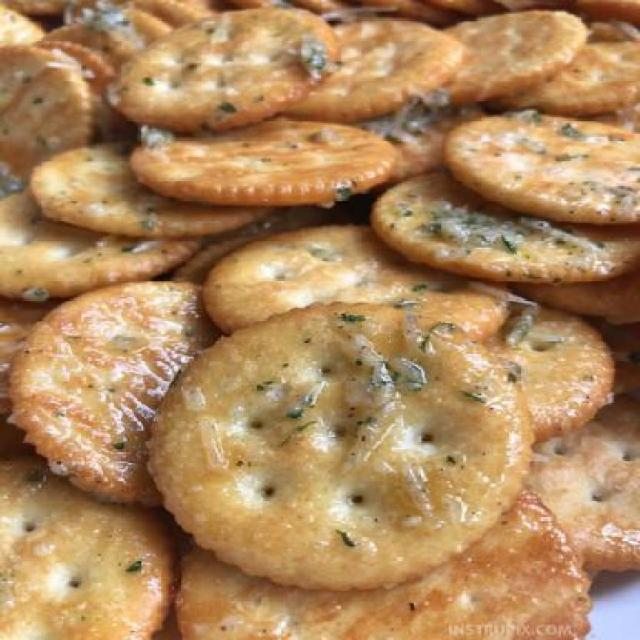Ritz cracker packaged: (23, 19, 632, 638)
